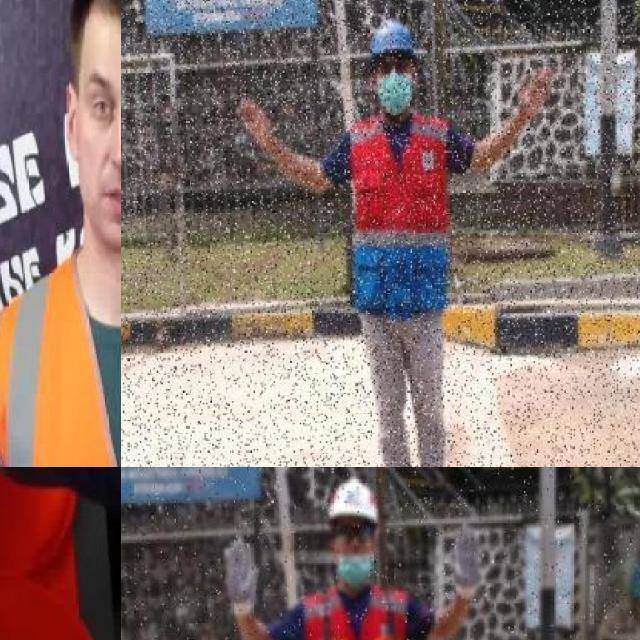apron: (446, 523, 484, 603), (222, 538, 259, 618)
